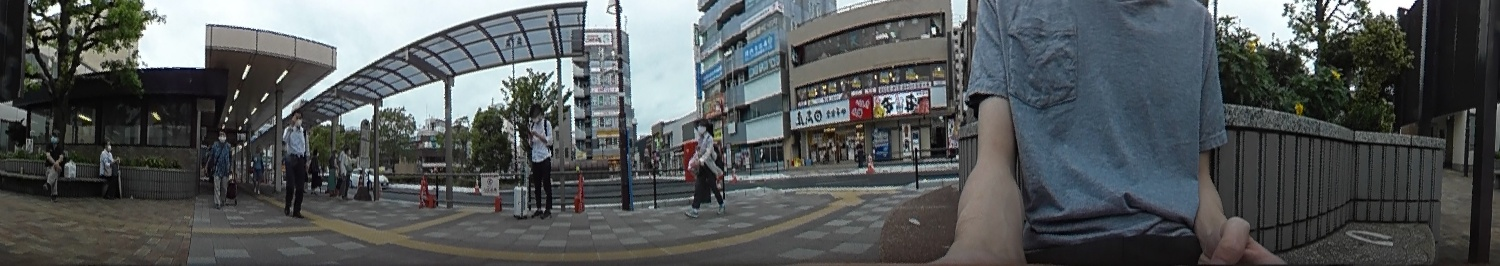difficult_person: (341, 146, 355, 198), (326, 149, 340, 195), (251, 151, 265, 195), (308, 147, 322, 189)
person: (525, 104, 555, 219), (693, 116, 726, 211), (282, 111, 307, 215), (205, 131, 235, 202), (97, 140, 122, 201), (43, 130, 64, 199)
